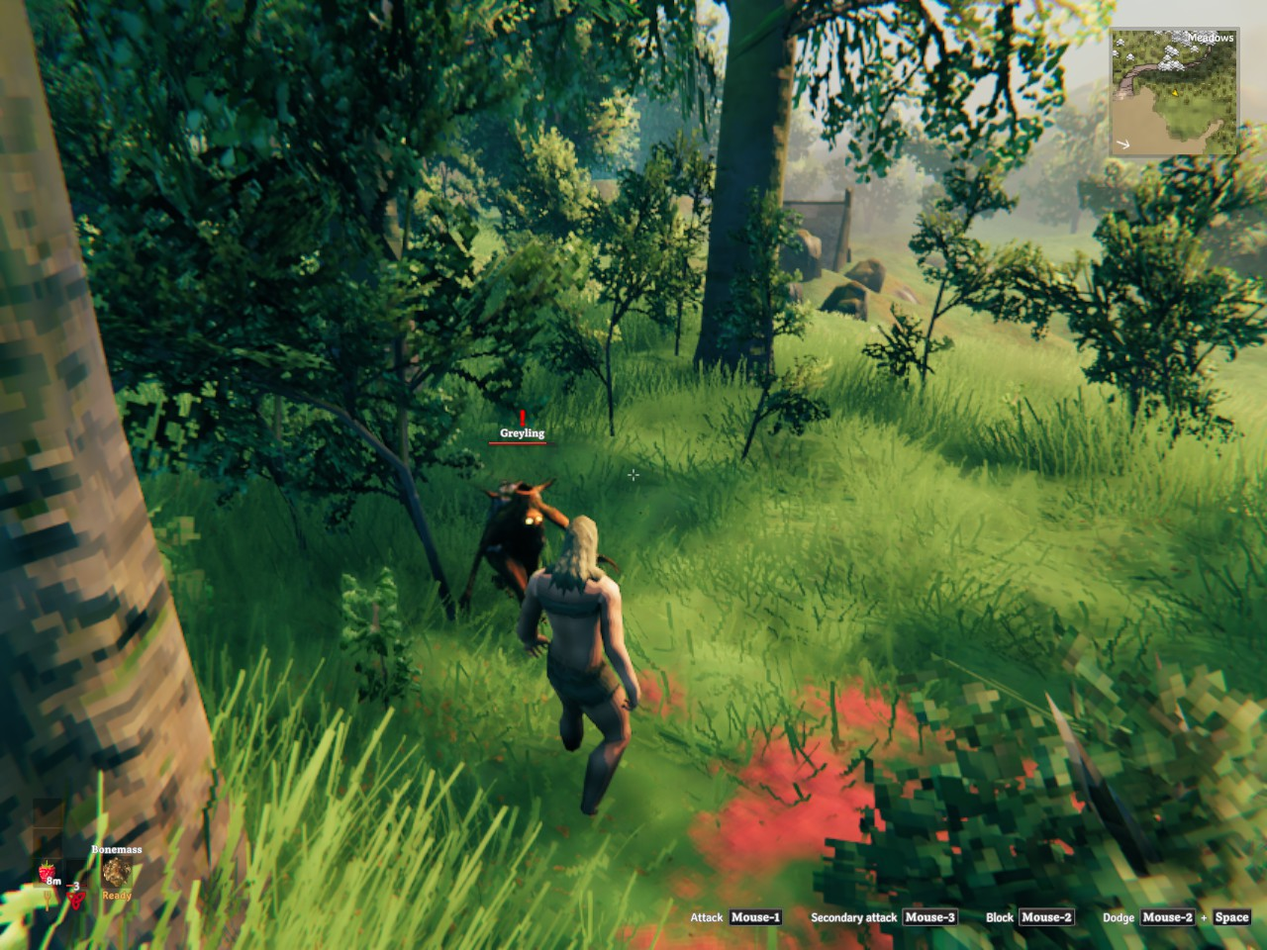Greyling: (460, 479, 568, 608)
